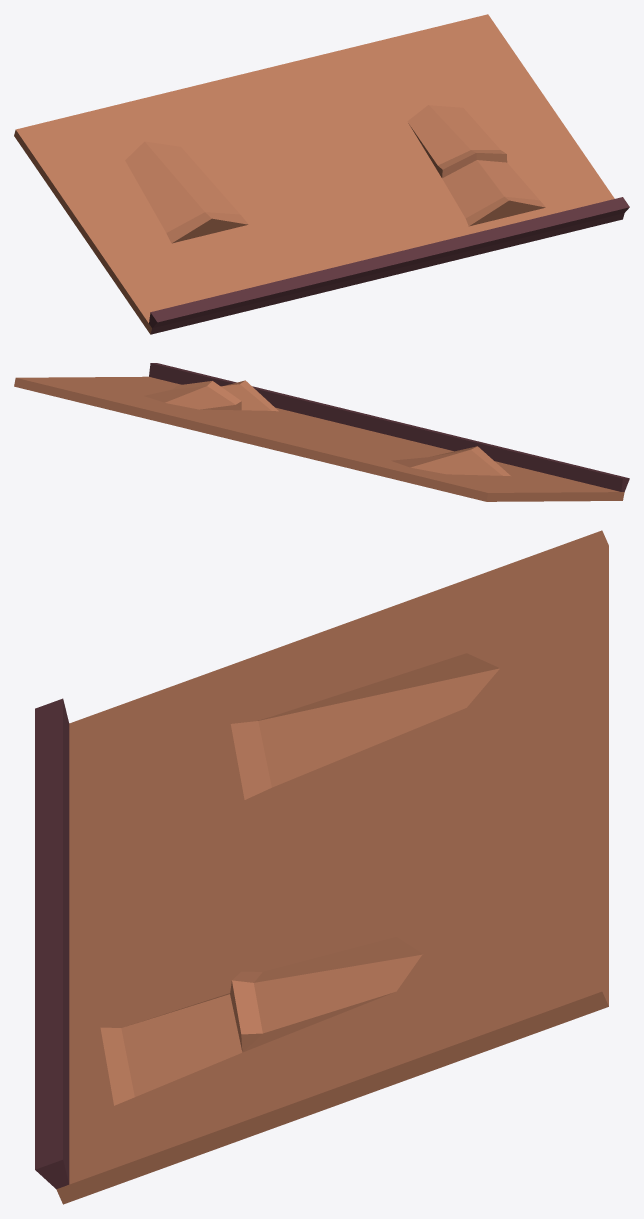
The model's file is SM_Roof_Small_3m_Edge_Empire.fbx.
3 renders of one model, top to bottom at view 1: azimuth 30°, elevation 25°; view 2: azimuth 150°, elevation 25°; view 3: azimuth 270°, elevation 25°, orthographic. The views are drawn at different scales.
Visible parts, largest first — view 1: SM_Roof_Small_3m_Edge_Empire; view 2: SM_Roof_Small_3m_Edge_Empire; view 3: SM_Roof_Small_3m_Edge_Empire.
Part boxes in pixels (box(x1,y1,x2,y2)): SM_Roof_Small_3m_Edge_Empire: box(14, 14, 629, 334); SM_Roof_Small_3m_Edge_Empire: box(14, 363, 629, 501); SM_Roof_Small_3m_Edge_Empire: box(35, 530, 608, 1204).
Bounding box in the file's own units: 3 × 0.6467 × 1.58.
